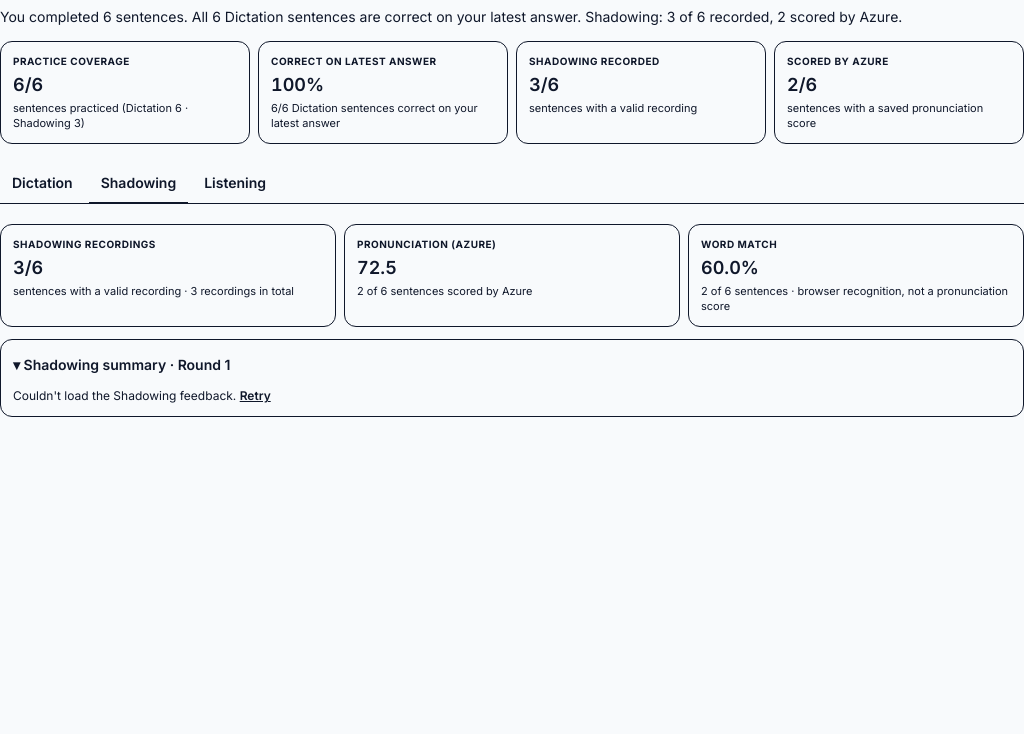
Test: loading › open (completion view, /results): loads at once; the SQL totals are visible meanwhile and stay on failure; Retry
Check: the element with test id "report-shadowing-azure" shows "2 of 6 sentences scored by Azure", box [357,284,532,298]
Check: the text "Couldn't load the Shadowing feedback. Retry" is shown, box [13,388,271,404]
Click the button "Retry" at (255, 396), box [240,388,271,404]
(page scrolled)
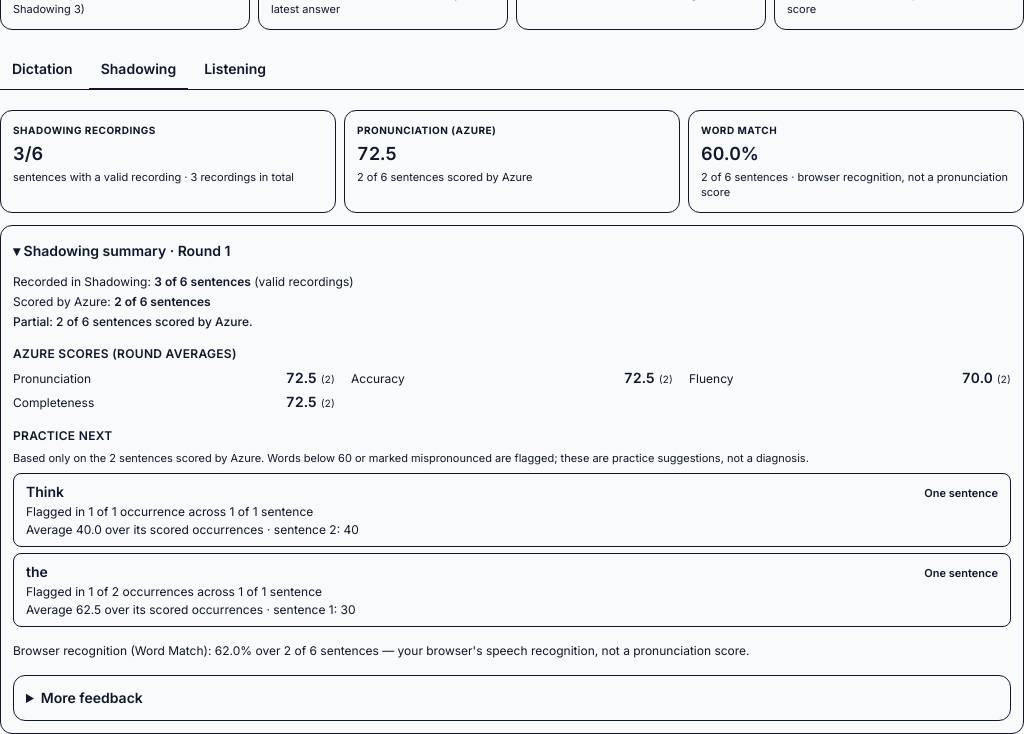
Check: the element with test id "shadowing-summary" is shown, box [13,274,1011,721]
